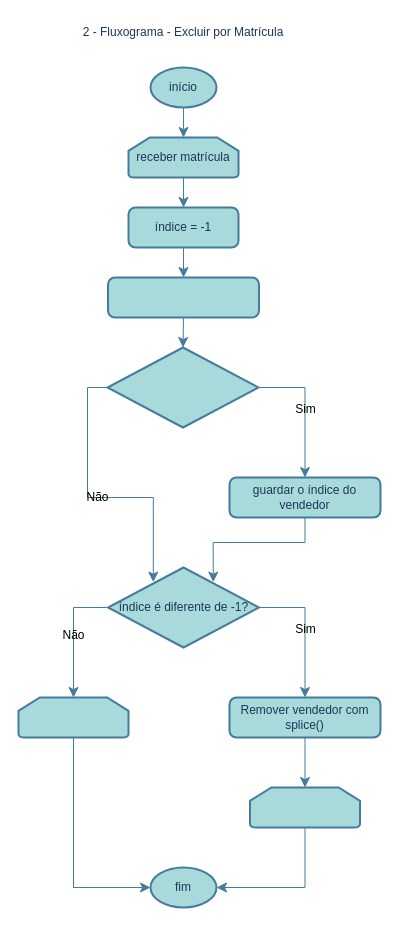
Image size: 398x925. Some labels were removed from this diagram. The shapes that lost their labels are listed below. From the top down, each one's centre as x and y in pixels, then its label:
point (183, 297): percorrer todos os vendedores com forEach
point (182, 387): a matrícula é igual à informada?
point (73, 717): Vendedor não encontrado!
point (304, 807): Vendedor excluído com sucesso!
